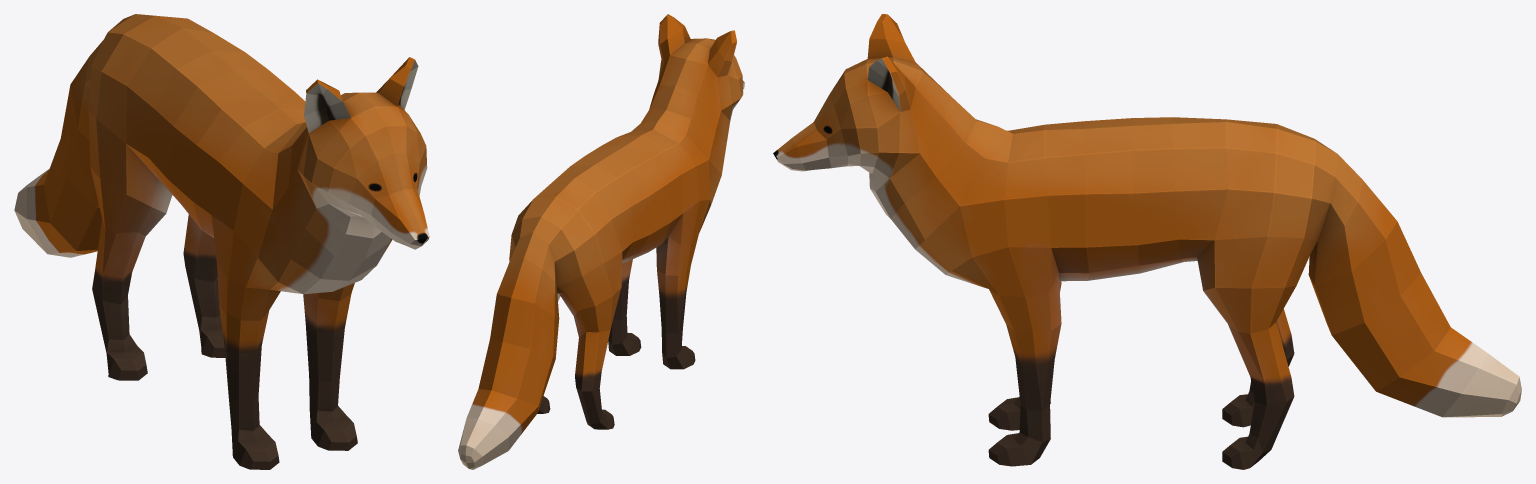
The model's file is fox.glb.
3 views of the same model, side by side, from view 1: azimuth 30°, elevation 25°; view 2: azimuth 150°, elevation 25°; view 3: azimuth 270°, elevation 25° (orthographic). The views are drawn at different scales.
Parts seen in each view (by area): view 1: Fox_Mesh; view 2: Fox_Mesh; view 3: Fox_Mesh.
Part boxes in pixels (x1,y1,x2,y2): Fox_Mesh: (14,14,429,469); Fox_Mesh: (458,14,744,469); Fox_Mesh: (773,14,1521,469).
Bounding box in the file's own units: 1.28 × 3.84 × 6.44.
1 material, 1 textured.
